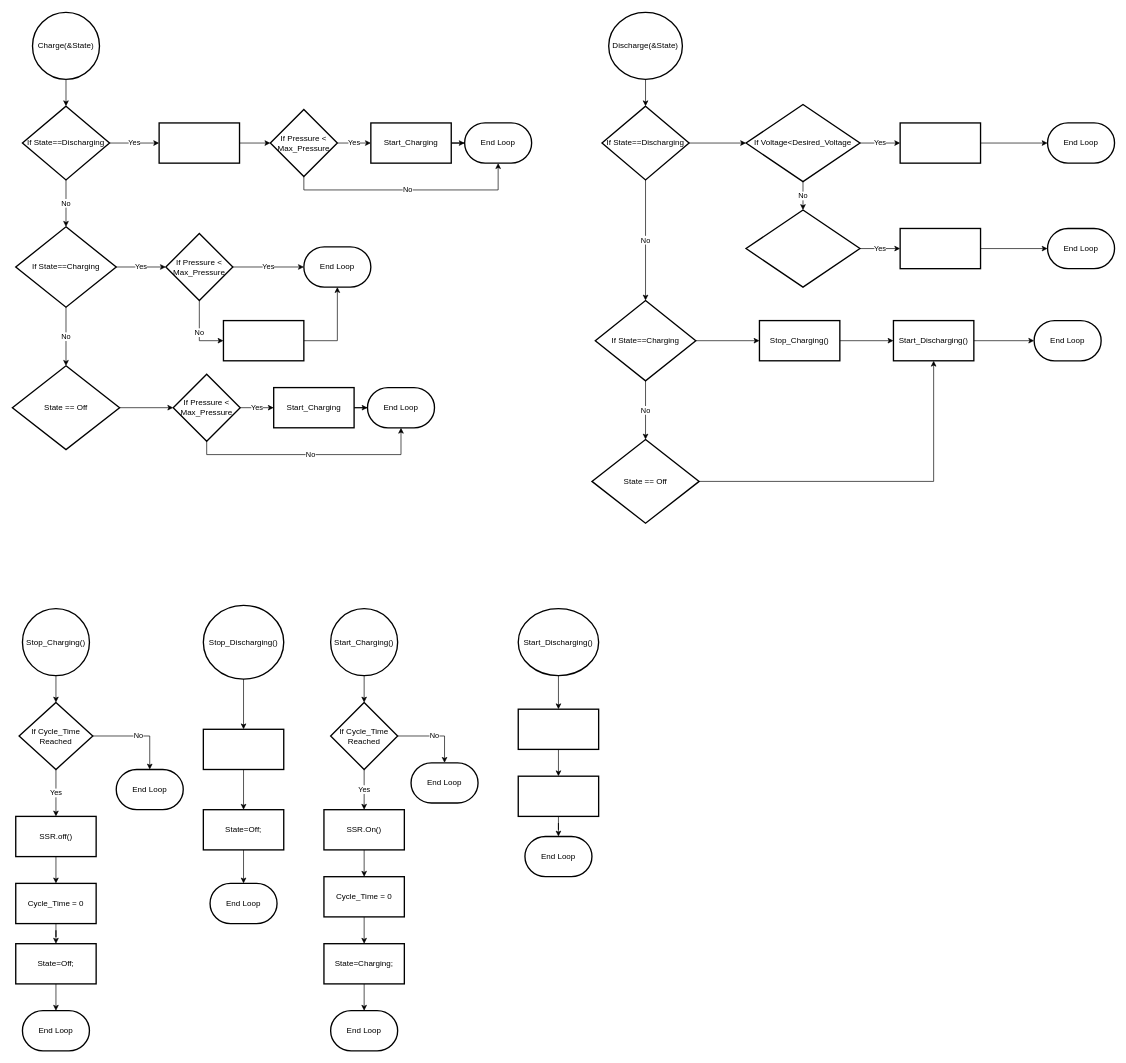
Some shapes in this 1126 by 1063 pixel diagram are drawn without their labels. Here are the shapes that lost their labels. From the top down, the centre of each, then its label:
pixel 199 142: Stop_Discharging
pixel 940 142: Valve1.Open(x_amt);
pixel 802 248: If Voltage>Desired_Voltage
pixel 940 248: Valve1.Close(x_amt)
pixel 263 340: Stop_Charging
pixel 243 749: Valve1.Close()
pixel 558 729: Valve1.Open(x_amt)
pixel 558 796: State=Discharging;
